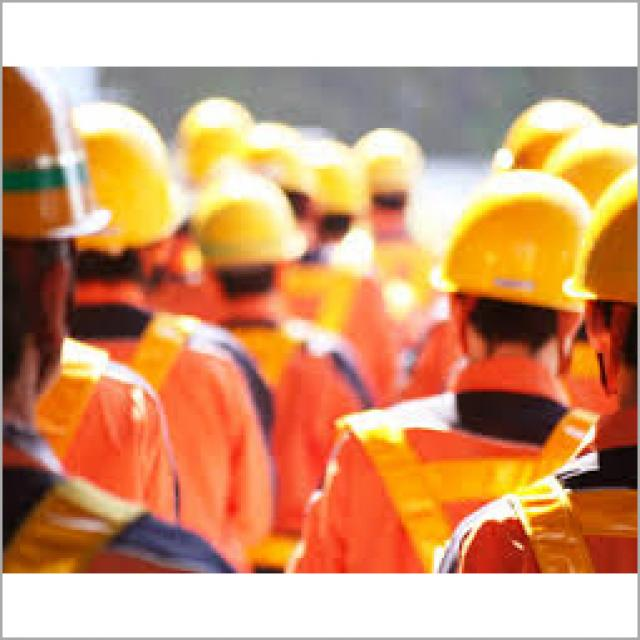Safety-Helmet: (432, 179, 587, 315), (0, 59, 110, 246), (65, 102, 178, 264), (183, 171, 304, 274), (487, 86, 607, 174), (562, 184, 638, 310), (168, 94, 252, 180), (350, 121, 429, 204)
